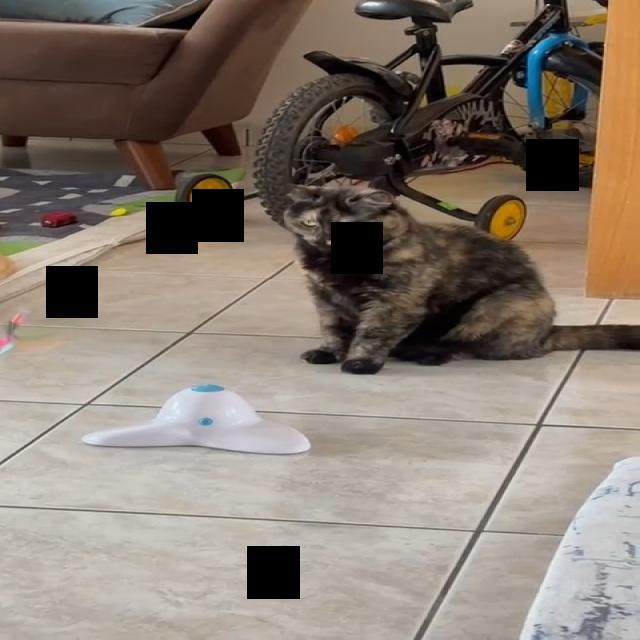authorized: (278, 182, 638, 374)
